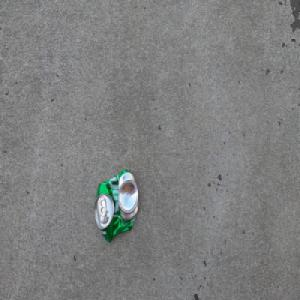SodaCan: (93, 168, 139, 243)
